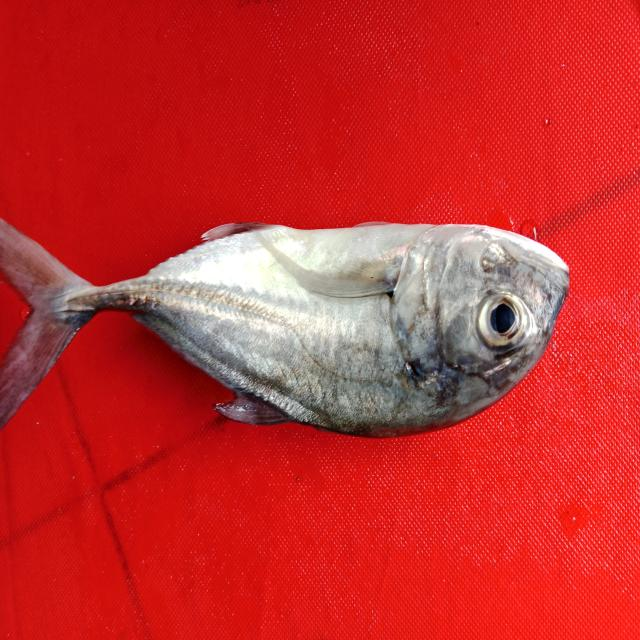ikan: (6, 171, 578, 452)
